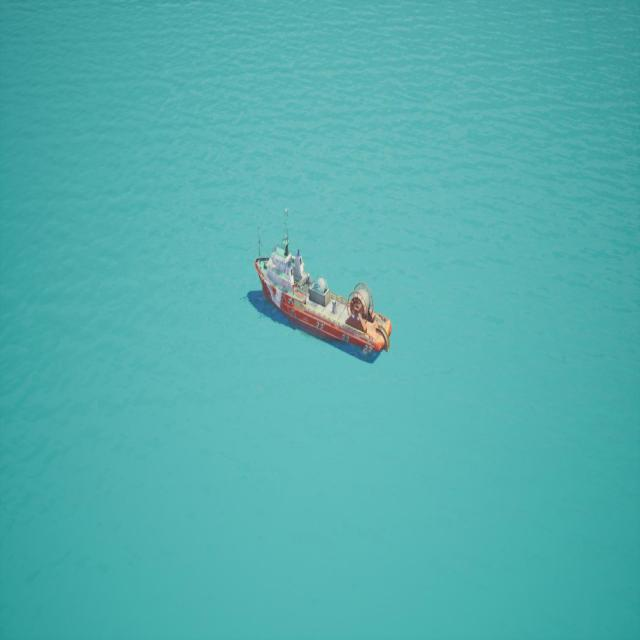tug boat: (238, 189, 409, 400)
